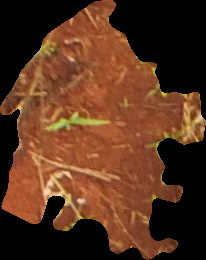soil: (1, 1, 206, 259)
